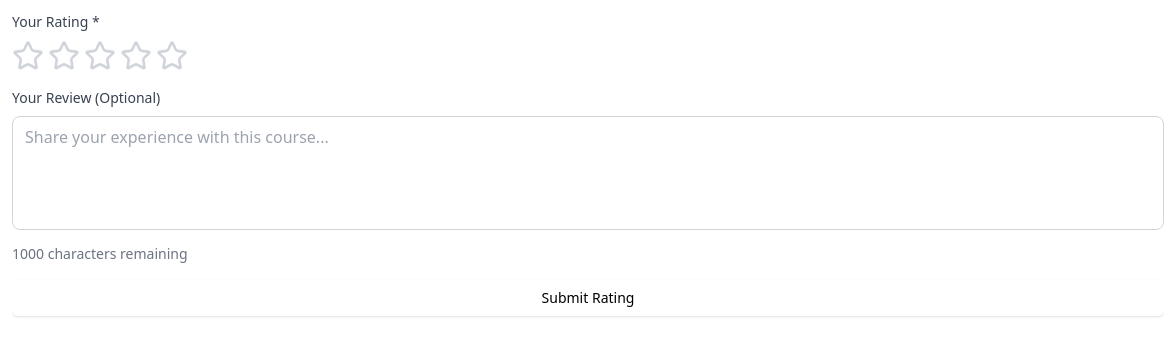
Test: RatingInput Component › Form Validation › should show error when submitting without rating
Click the button "Submit Rating" at x=588, y=298, box x1=12 y1=280 x2=1164 y2=316
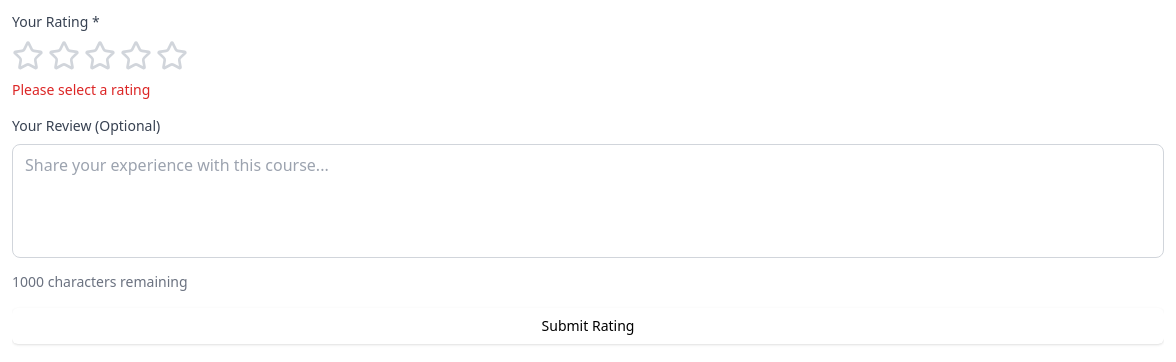
Now the text "Please select a rating" is shown, box x1=12 y1=80 x2=150 y2=99
